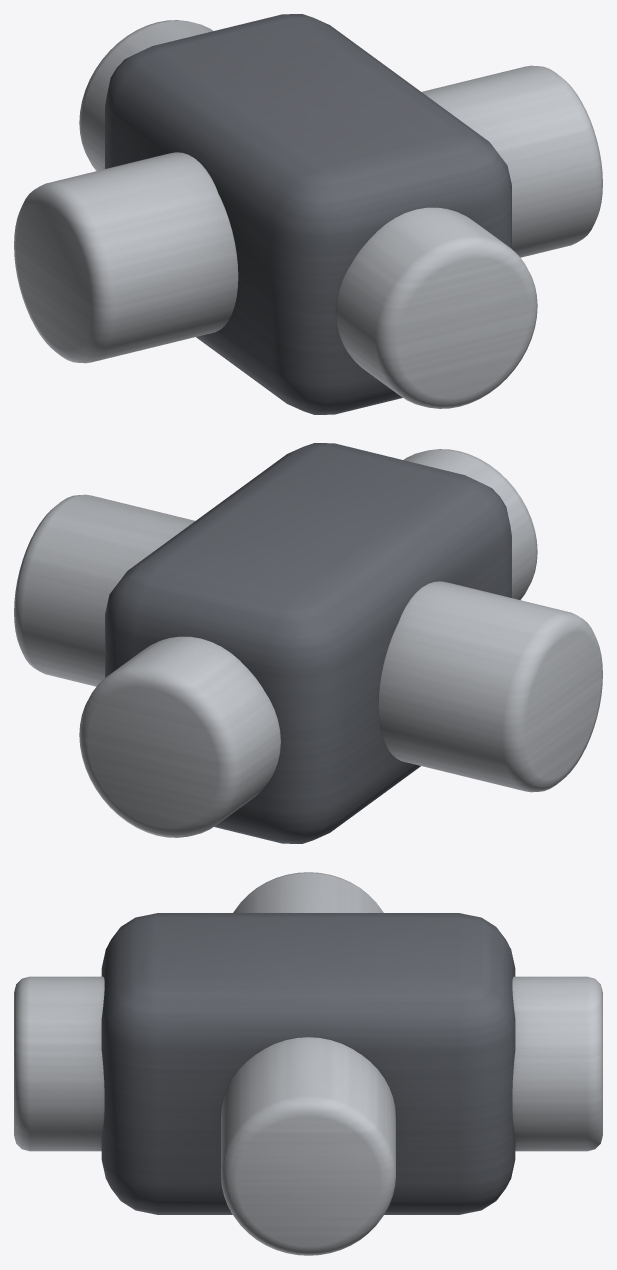
File: right_ankle.glb
The picture shows the model from 3 angles, top to bottom: view 1: azimuth 30°, elevation 25°; view 2: azimuth 150°, elevation 25°; view 3: azimuth 270°, elevation 25°; orthographic projection. The views are drawn at different scales.
Visible parts, largest first — view 1: right_ankle; view 2: right_ankle; view 3: right_ankle.
Part boxes in pixels (left/top/right/bottom): right_ankle: left=14, top=14, right=602, bottom=414; right_ankle: left=14, top=443, right=602, bottom=843; right_ankle: left=14, top=872, right=602, bottom=1255.
Size of the model in its own units: 0.07 by 0.032 by 0.074.
Materials: 1 (1 with a texture image).
